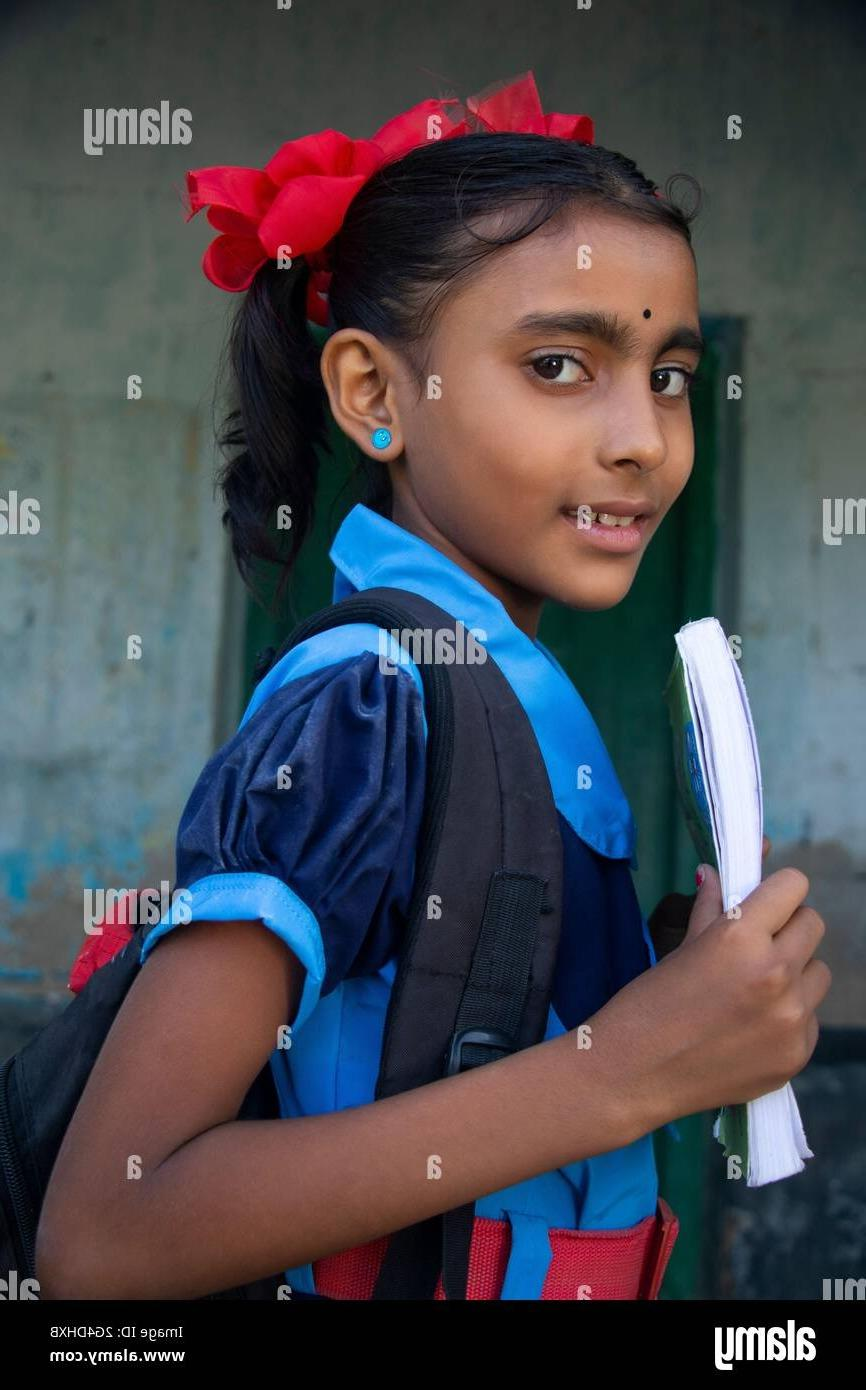Human: (67, 82, 856, 1390)
